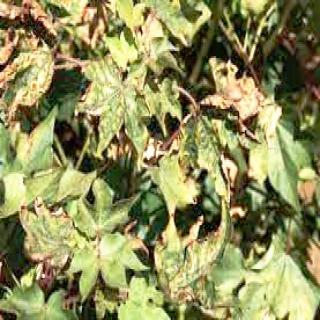wilt: (13, 28, 63, 108), (215, 53, 267, 123)
